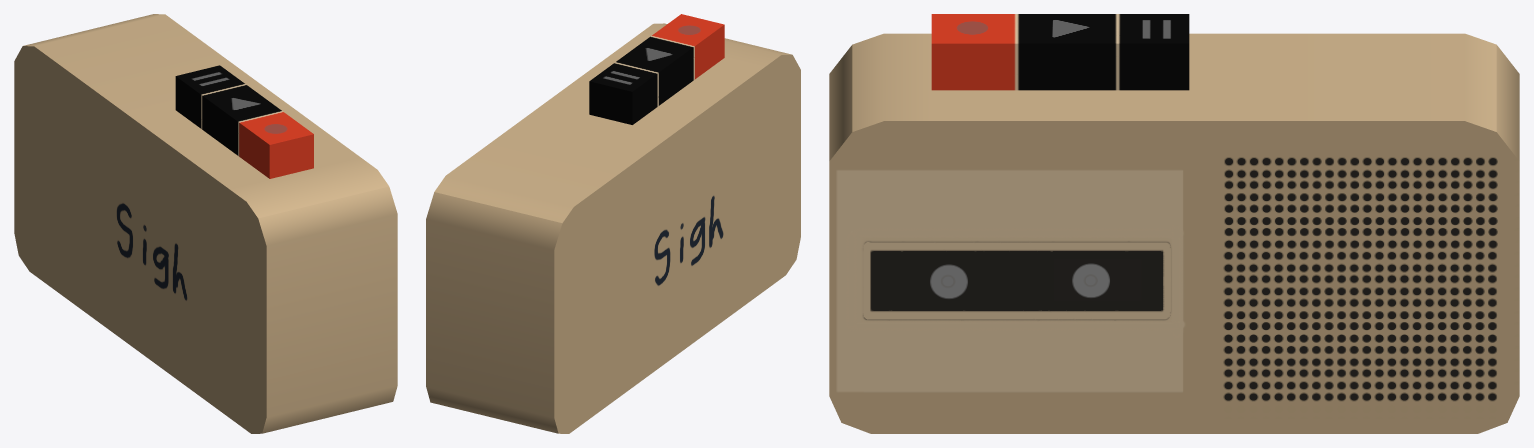
Rendered from SighRecorder.fbx.
The picture shows the model from 3 angles, left to right: view 1: azimuth 30°, elevation 25°; view 2: azimuth 150°, elevation 25°; view 3: azimuth 270°, elevation 25°; orthographic projection. The views are drawn at different scales.
Visible parts, largest first — view 1: recorder; view 2: recorder; view 3: recorder.
Part boxes in pixels (x1=…): recorder: x1=14, y1=14, x2=397, y2=433; recorder: x1=426, y1=14, x2=800, y2=433; recorder: x1=829, y1=14, x2=1519, y2=433.
Size of the model in its own units: 3 by 5.75 by 10.
